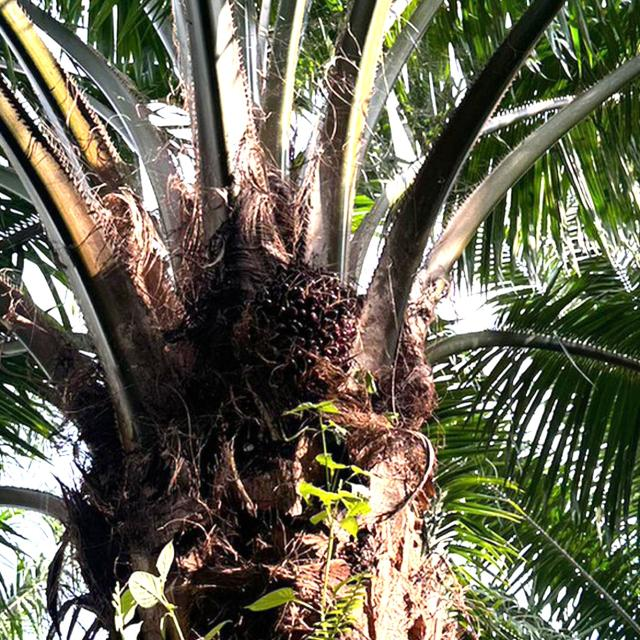unripe: (234, 261, 436, 450)
